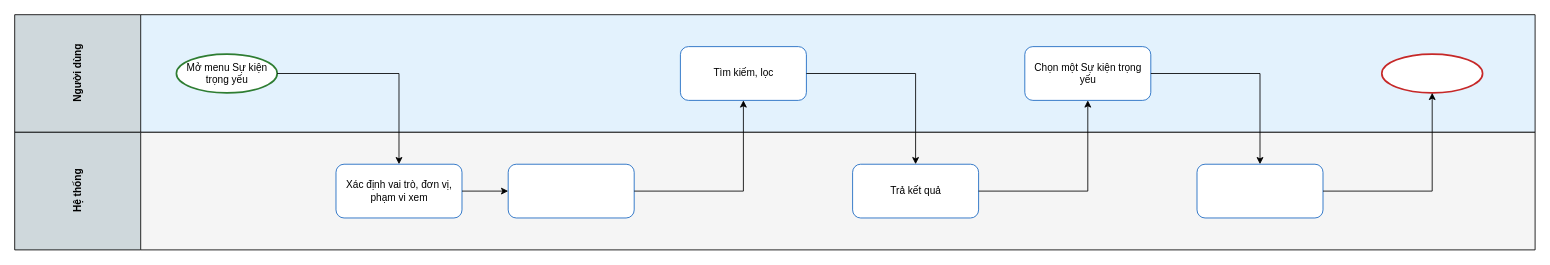
The diagram is 1550 pixels wide and 265 high, and some of its shapes have lost their labels. The shapes that lost their labels are listed below. From the top down, each one's centre as x and y in pixels, then its label:
At (1432,73): "Kết thúc".
At (570,190): "Hiển thị danh sách theo phạm vi".
At (1259,190): "Hiển thị chi tiết và nút thao tác theo quyền, trạng thái".
